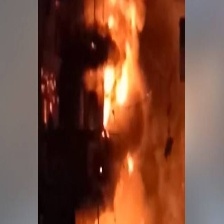fire: (100, 2, 148, 137)
